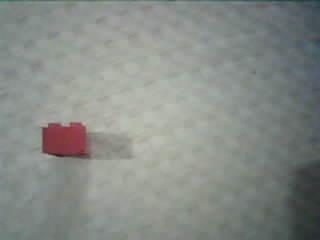lego: (40, 121, 87, 158)
